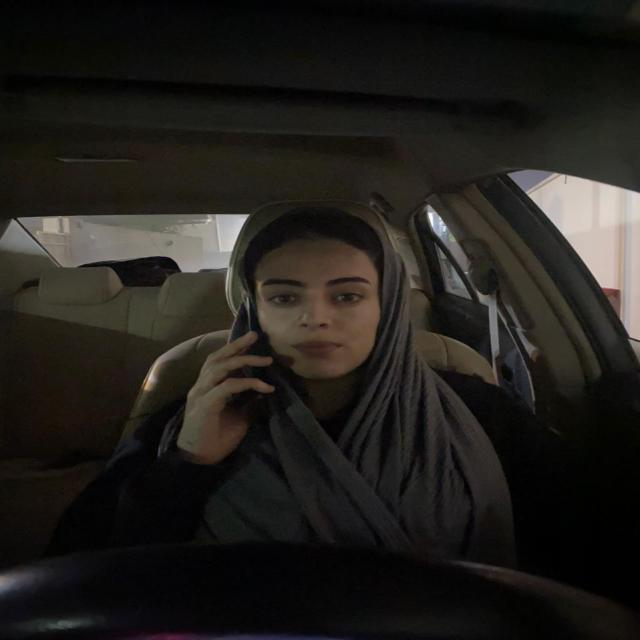mobile: (222, 295, 279, 412)
person: (251, 219, 391, 382)
